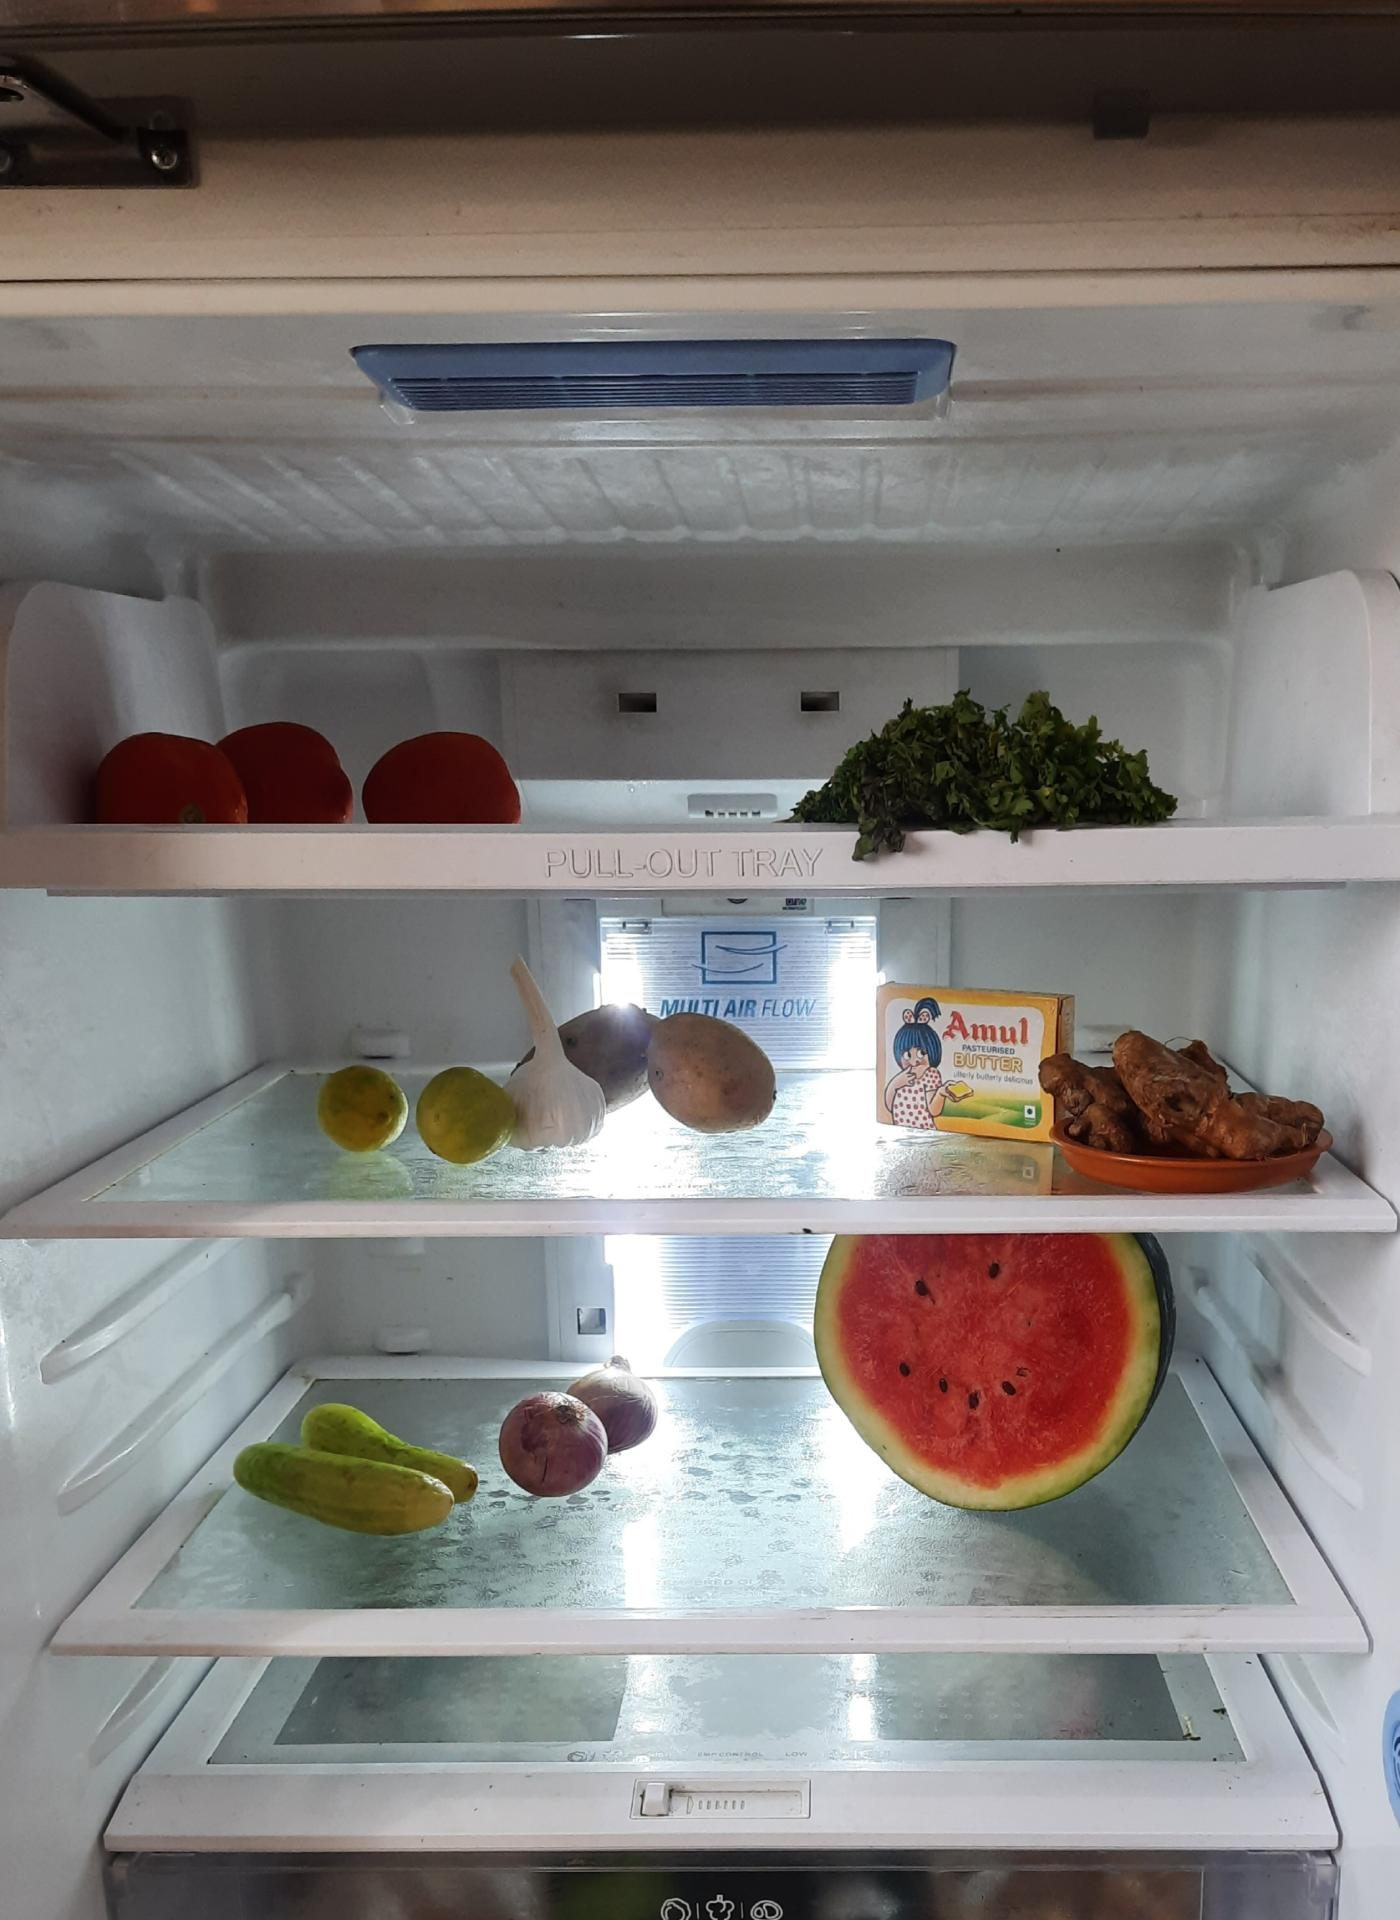butter: (868, 969, 1082, 1160)
coriander: (804, 699, 1169, 824)
cucumber: (222, 1397, 485, 1534)
garlic: (482, 926, 614, 1172)
ginger: (1033, 1030, 1349, 1187)
lemon: (292, 1026, 513, 1182)
onion: (491, 1349, 647, 1506)
potato: (592, 999, 808, 1151)
tomato: (76, 674, 502, 826)
watermelon: (807, 1231, 1170, 1512)
